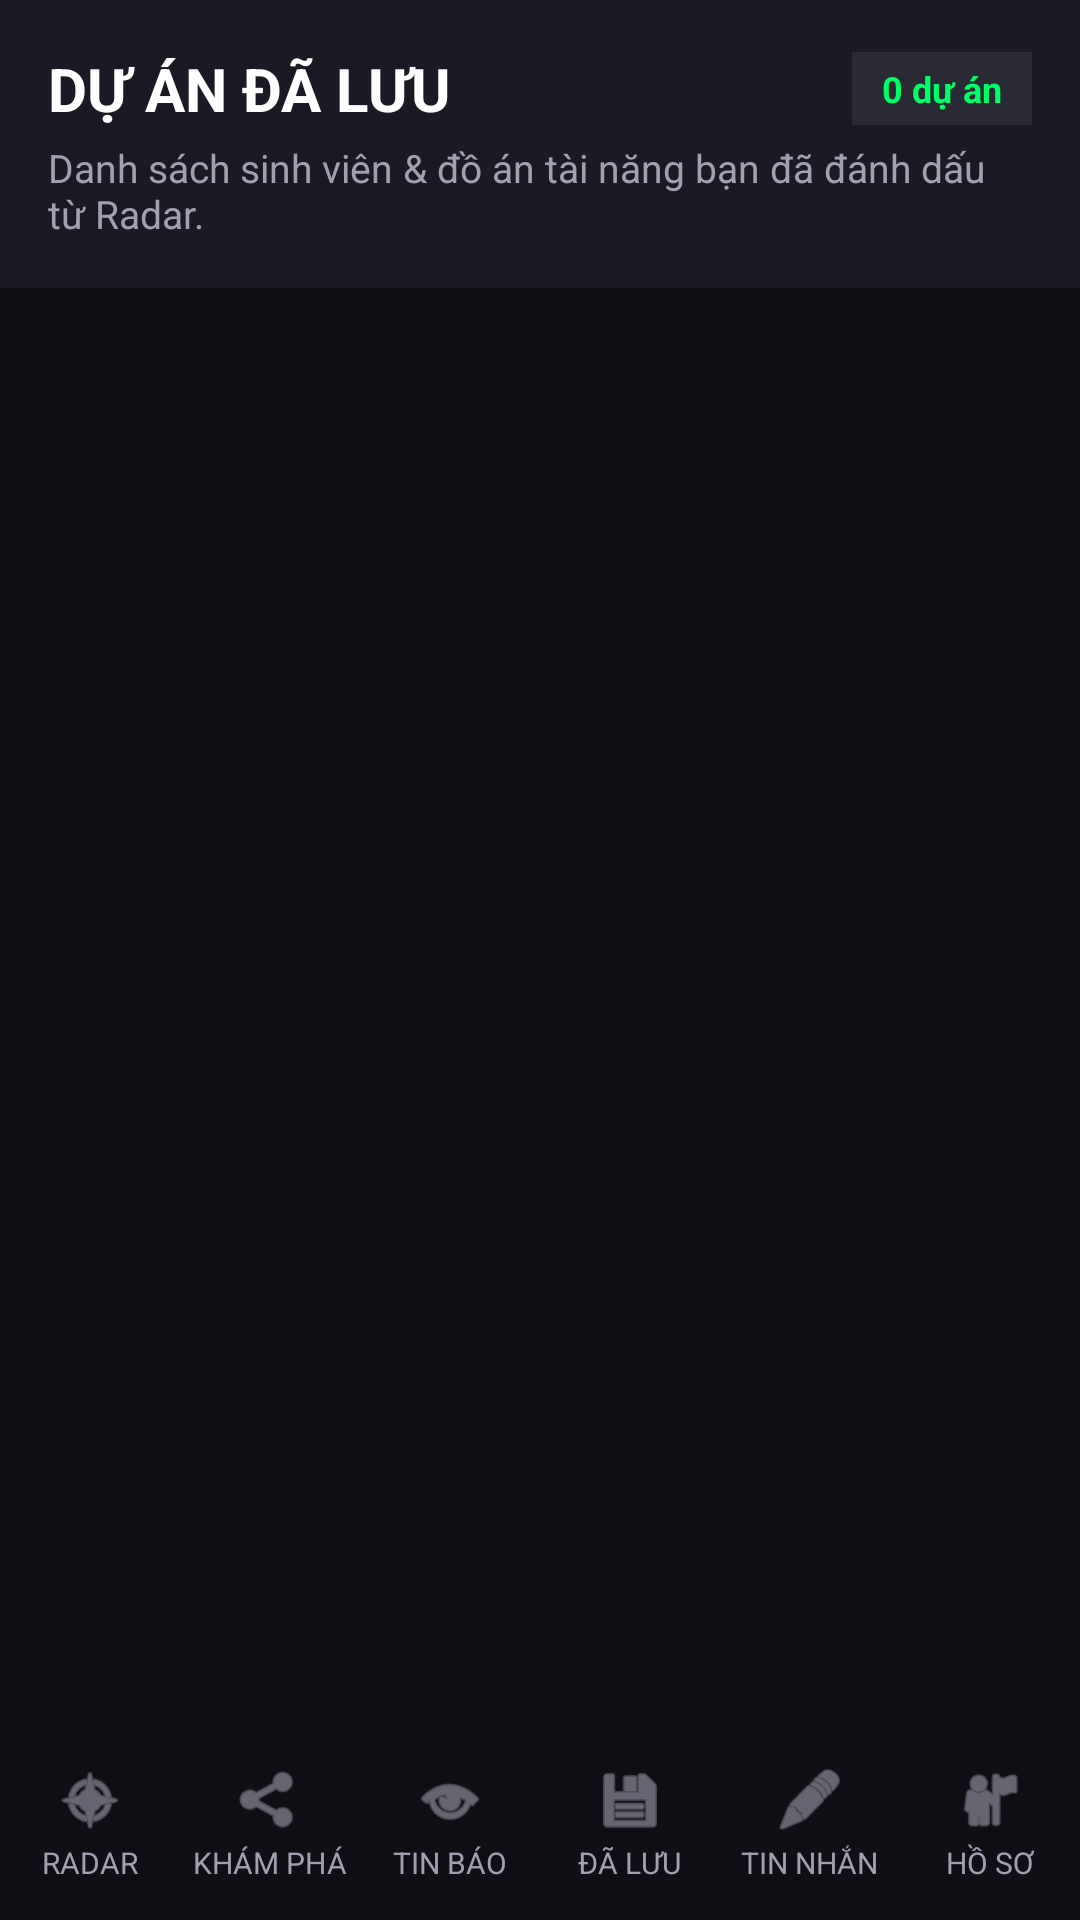

Where icons sit on this 1080w x 1920h app screen, as [x1=x1, y1=y1, x2=x2, y2=y2]:
edit: [x1=779, y1=1769, x2=840, y2=1830]
share: [x1=239, y1=1772, x2=293, y2=1828]
view: [x1=421, y1=1784, x2=479, y2=1820]
